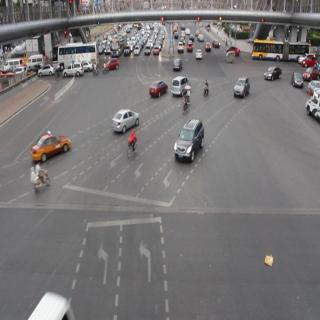BigCar: (253, 37, 298, 63)
Car: (172, 119, 205, 165), (32, 130, 72, 161), (110, 106, 140, 130), (234, 73, 250, 102), (170, 73, 188, 96), (148, 79, 166, 99), (64, 62, 83, 80), (264, 65, 282, 83), (304, 64, 318, 81), (38, 64, 54, 78), (291, 71, 302, 91), (105, 59, 120, 72), (172, 55, 183, 72), (195, 47, 202, 60), (177, 41, 185, 52), (206, 40, 212, 52), (187, 40, 193, 52), (144, 47, 151, 57), (154, 46, 160, 56), (134, 46, 140, 56), (124, 46, 130, 55)
